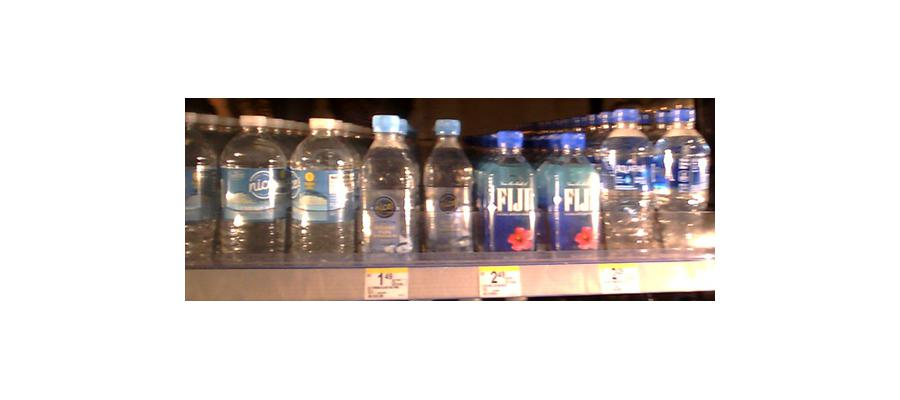bottle: (288, 112, 356, 262), (220, 113, 286, 259), (357, 111, 416, 265), (419, 118, 476, 256), (601, 107, 655, 252), (479, 126, 538, 258), (543, 130, 602, 256), (658, 100, 708, 247)
